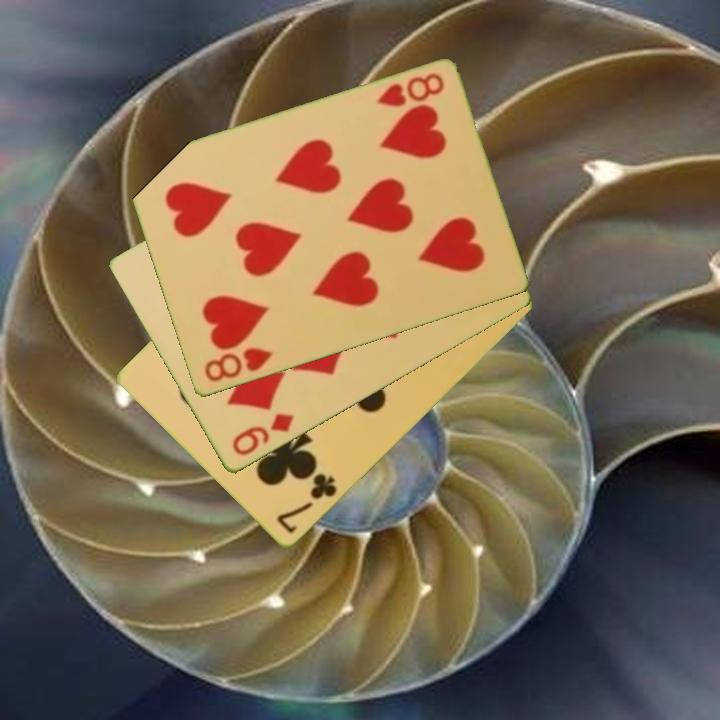7c: (273, 470, 340, 537)
8h: (372, 69, 447, 111), (200, 344, 276, 385)
9d: (228, 410, 297, 459)
